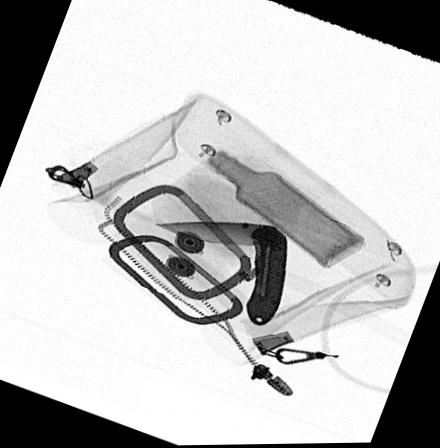Knife: (147, 219, 288, 327)
